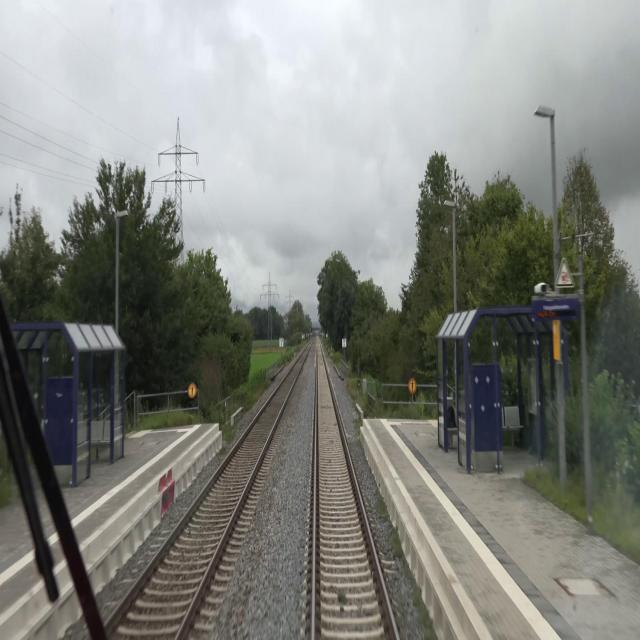rail-track: (99, 350, 306, 639), (316, 345, 394, 639)
